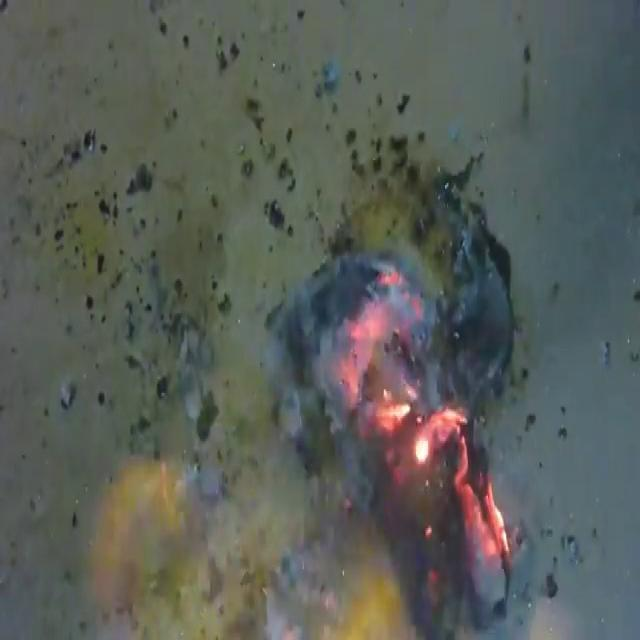Fire: (46, 137, 541, 640)
